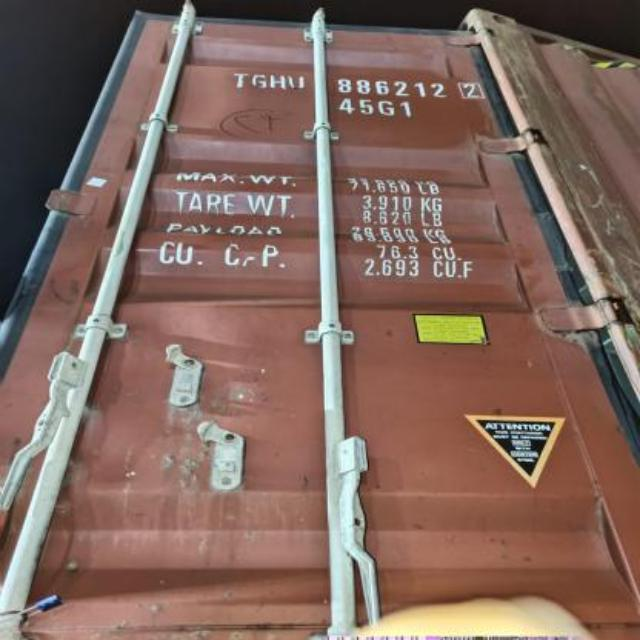1: (412, 75, 430, 101)
2: (458, 76, 486, 100), (431, 74, 447, 100), (392, 78, 410, 99)
6: (374, 74, 390, 96)
8: (354, 72, 372, 98), (338, 74, 352, 96)
G: (252, 66, 268, 94)
H: (270, 67, 286, 97)
T: (234, 66, 250, 94)
U: (288, 66, 306, 94)
